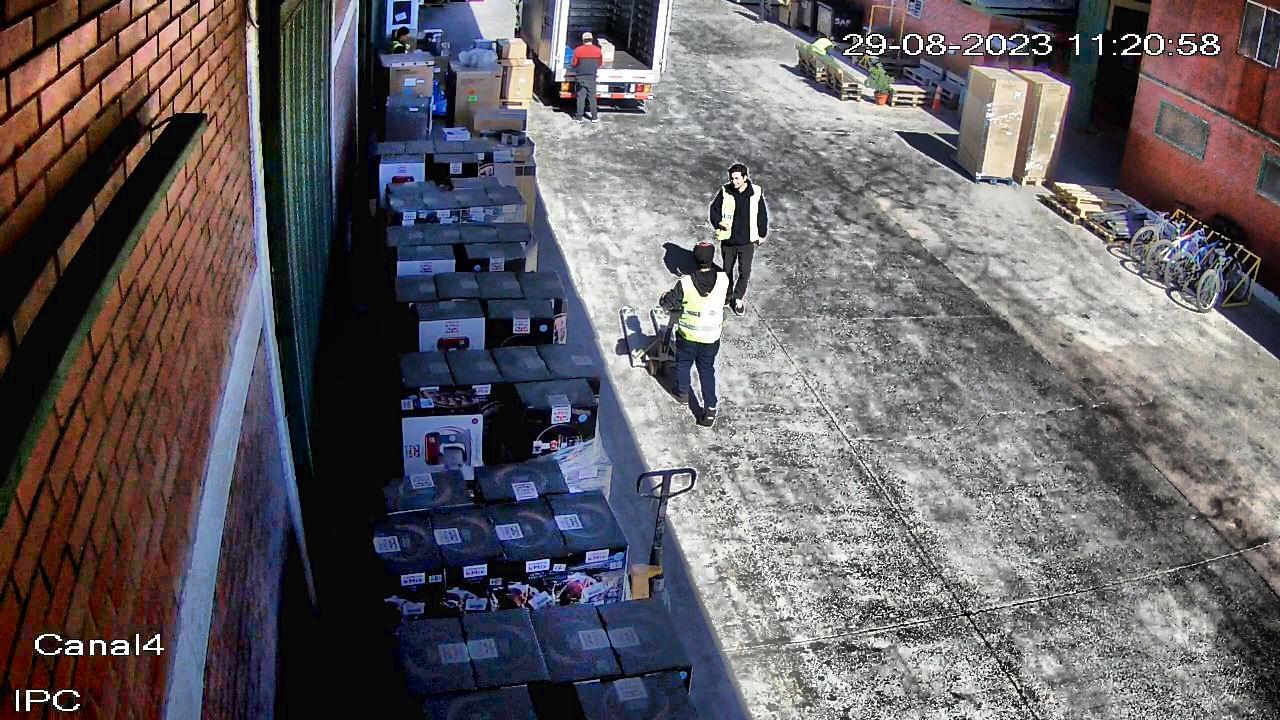con-casco: (577, 32, 598, 46)
con-chaleco: (671, 270, 734, 340), (705, 184, 773, 244), (807, 37, 832, 59)
persona: (653, 239, 734, 434), (698, 161, 773, 324), (566, 30, 603, 129), (799, 30, 843, 85)
sin-casco: (721, 161, 753, 193), (689, 241, 719, 272), (824, 33, 837, 44)
sin-chaleco: (572, 44, 602, 81)
